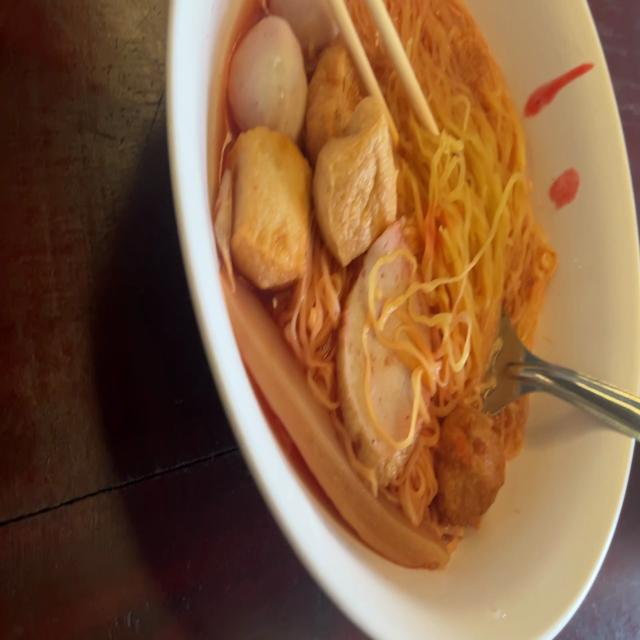crunchy_squid: (216, 261, 451, 570)
egg_noodles: (360, 0, 547, 463)
fish_ball: (223, 12, 307, 140), (270, 0, 342, 69)
fried_fish_balls: (337, 214, 433, 481)
fried_tofu: (314, 99, 394, 254), (305, 42, 361, 155)
noodle: (208, 0, 558, 572)
tofu: (233, 126, 315, 282)
